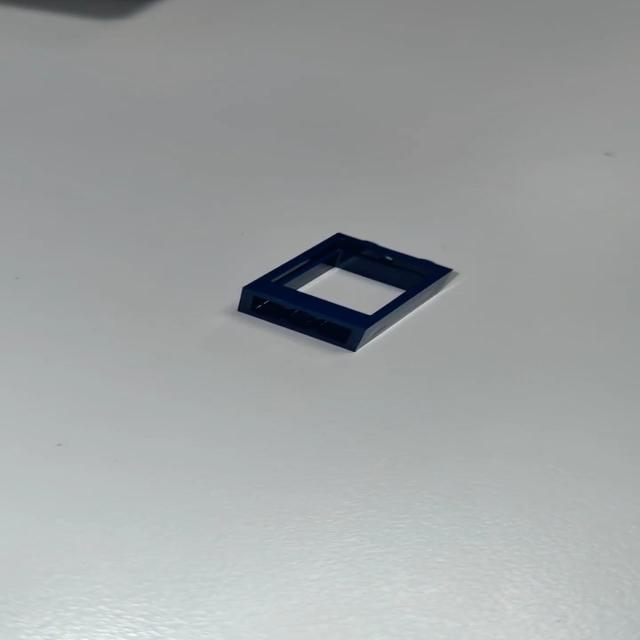W2x1x2: (231, 228, 471, 360)
